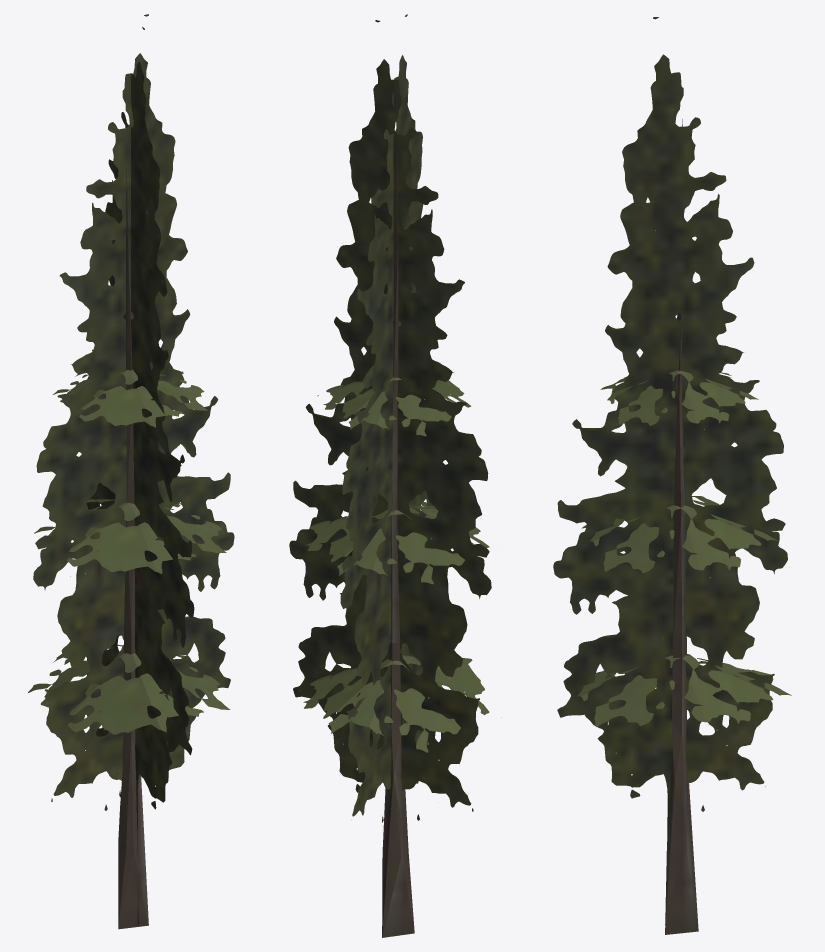
The model's file is forest_pine003.glb.
3 views of the same model, side by side, from view 1: azimuth 30°, elevation 25°; view 2: azimuth 150°, elevation 25°; view 3: azimuth 270°, elevation 25° (orthographic).
Size of the model in its own units: 2.01 by 7.8 by 2.11.
Materials: 1 (1 with a texture image).
